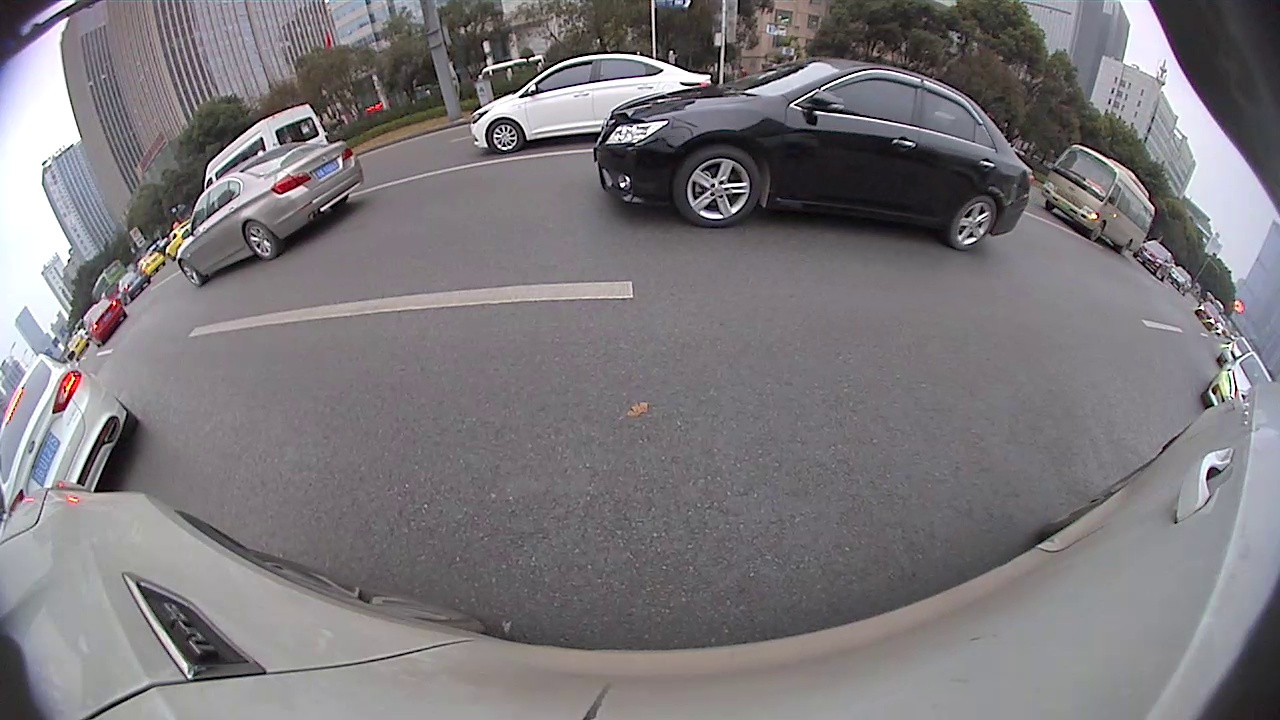bus: (1043, 143, 1155, 266)
car: (595, 58, 1032, 250), (176, 143, 363, 288), (471, 55, 714, 154), (3, 353, 131, 512), (201, 104, 326, 188), (1201, 352, 1273, 413), (83, 297, 125, 345)
front: (674, 142, 763, 228), (486, 116, 524, 154), (179, 259, 201, 289), (1091, 220, 1106, 243)
rear: (949, 195, 998, 252), (240, 219, 281, 258)
